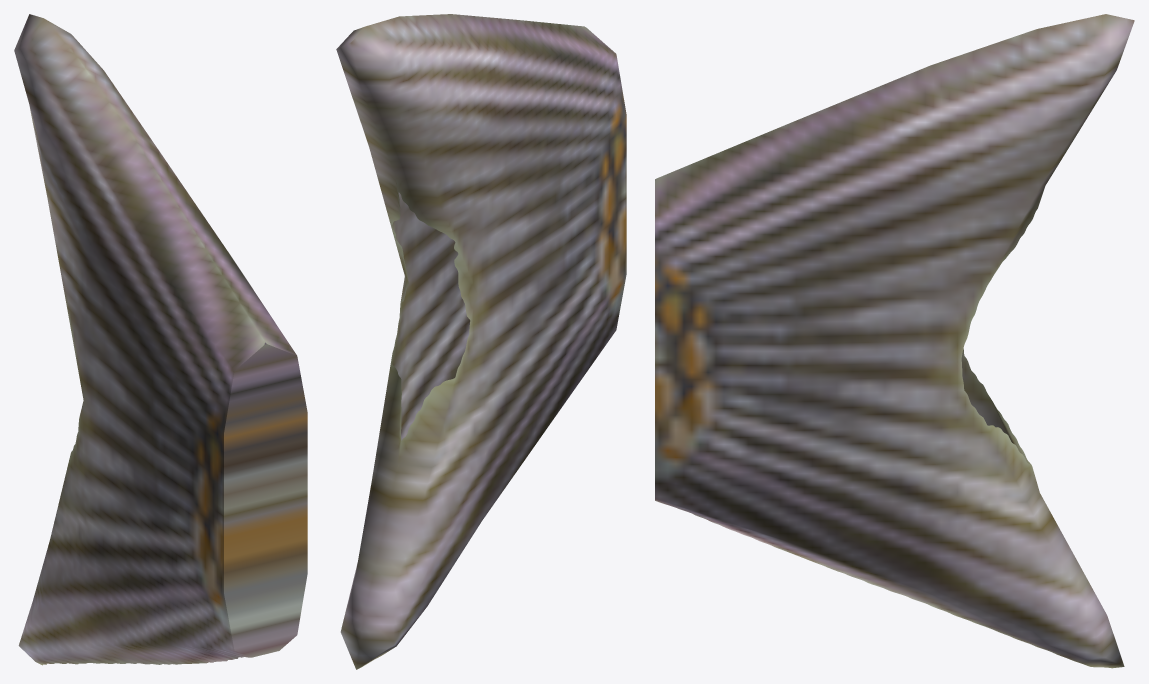
Rendered from ColaPezCafe.obj.
3 renders of one model, left to right at view 1: azimuth 30°, elevation 25°; view 2: azimuth 150°, elevation 25°; view 3: azimuth 270°, elevation 25°, orthographic. The views are drawn at different scales.
Visible parts, largest first — view 1: Cola; view 2: Cola; view 3: Cola.
Boxes of the visible parts, x1,y1,x2,y2 form: Cola: (14,14,307,665); Cola: (336,14,626,669); Cola: (655,14,1134,668).
Size of the model in its own units: 0.91 by 6.37 by 4.22.
1 material, 1 textured.
